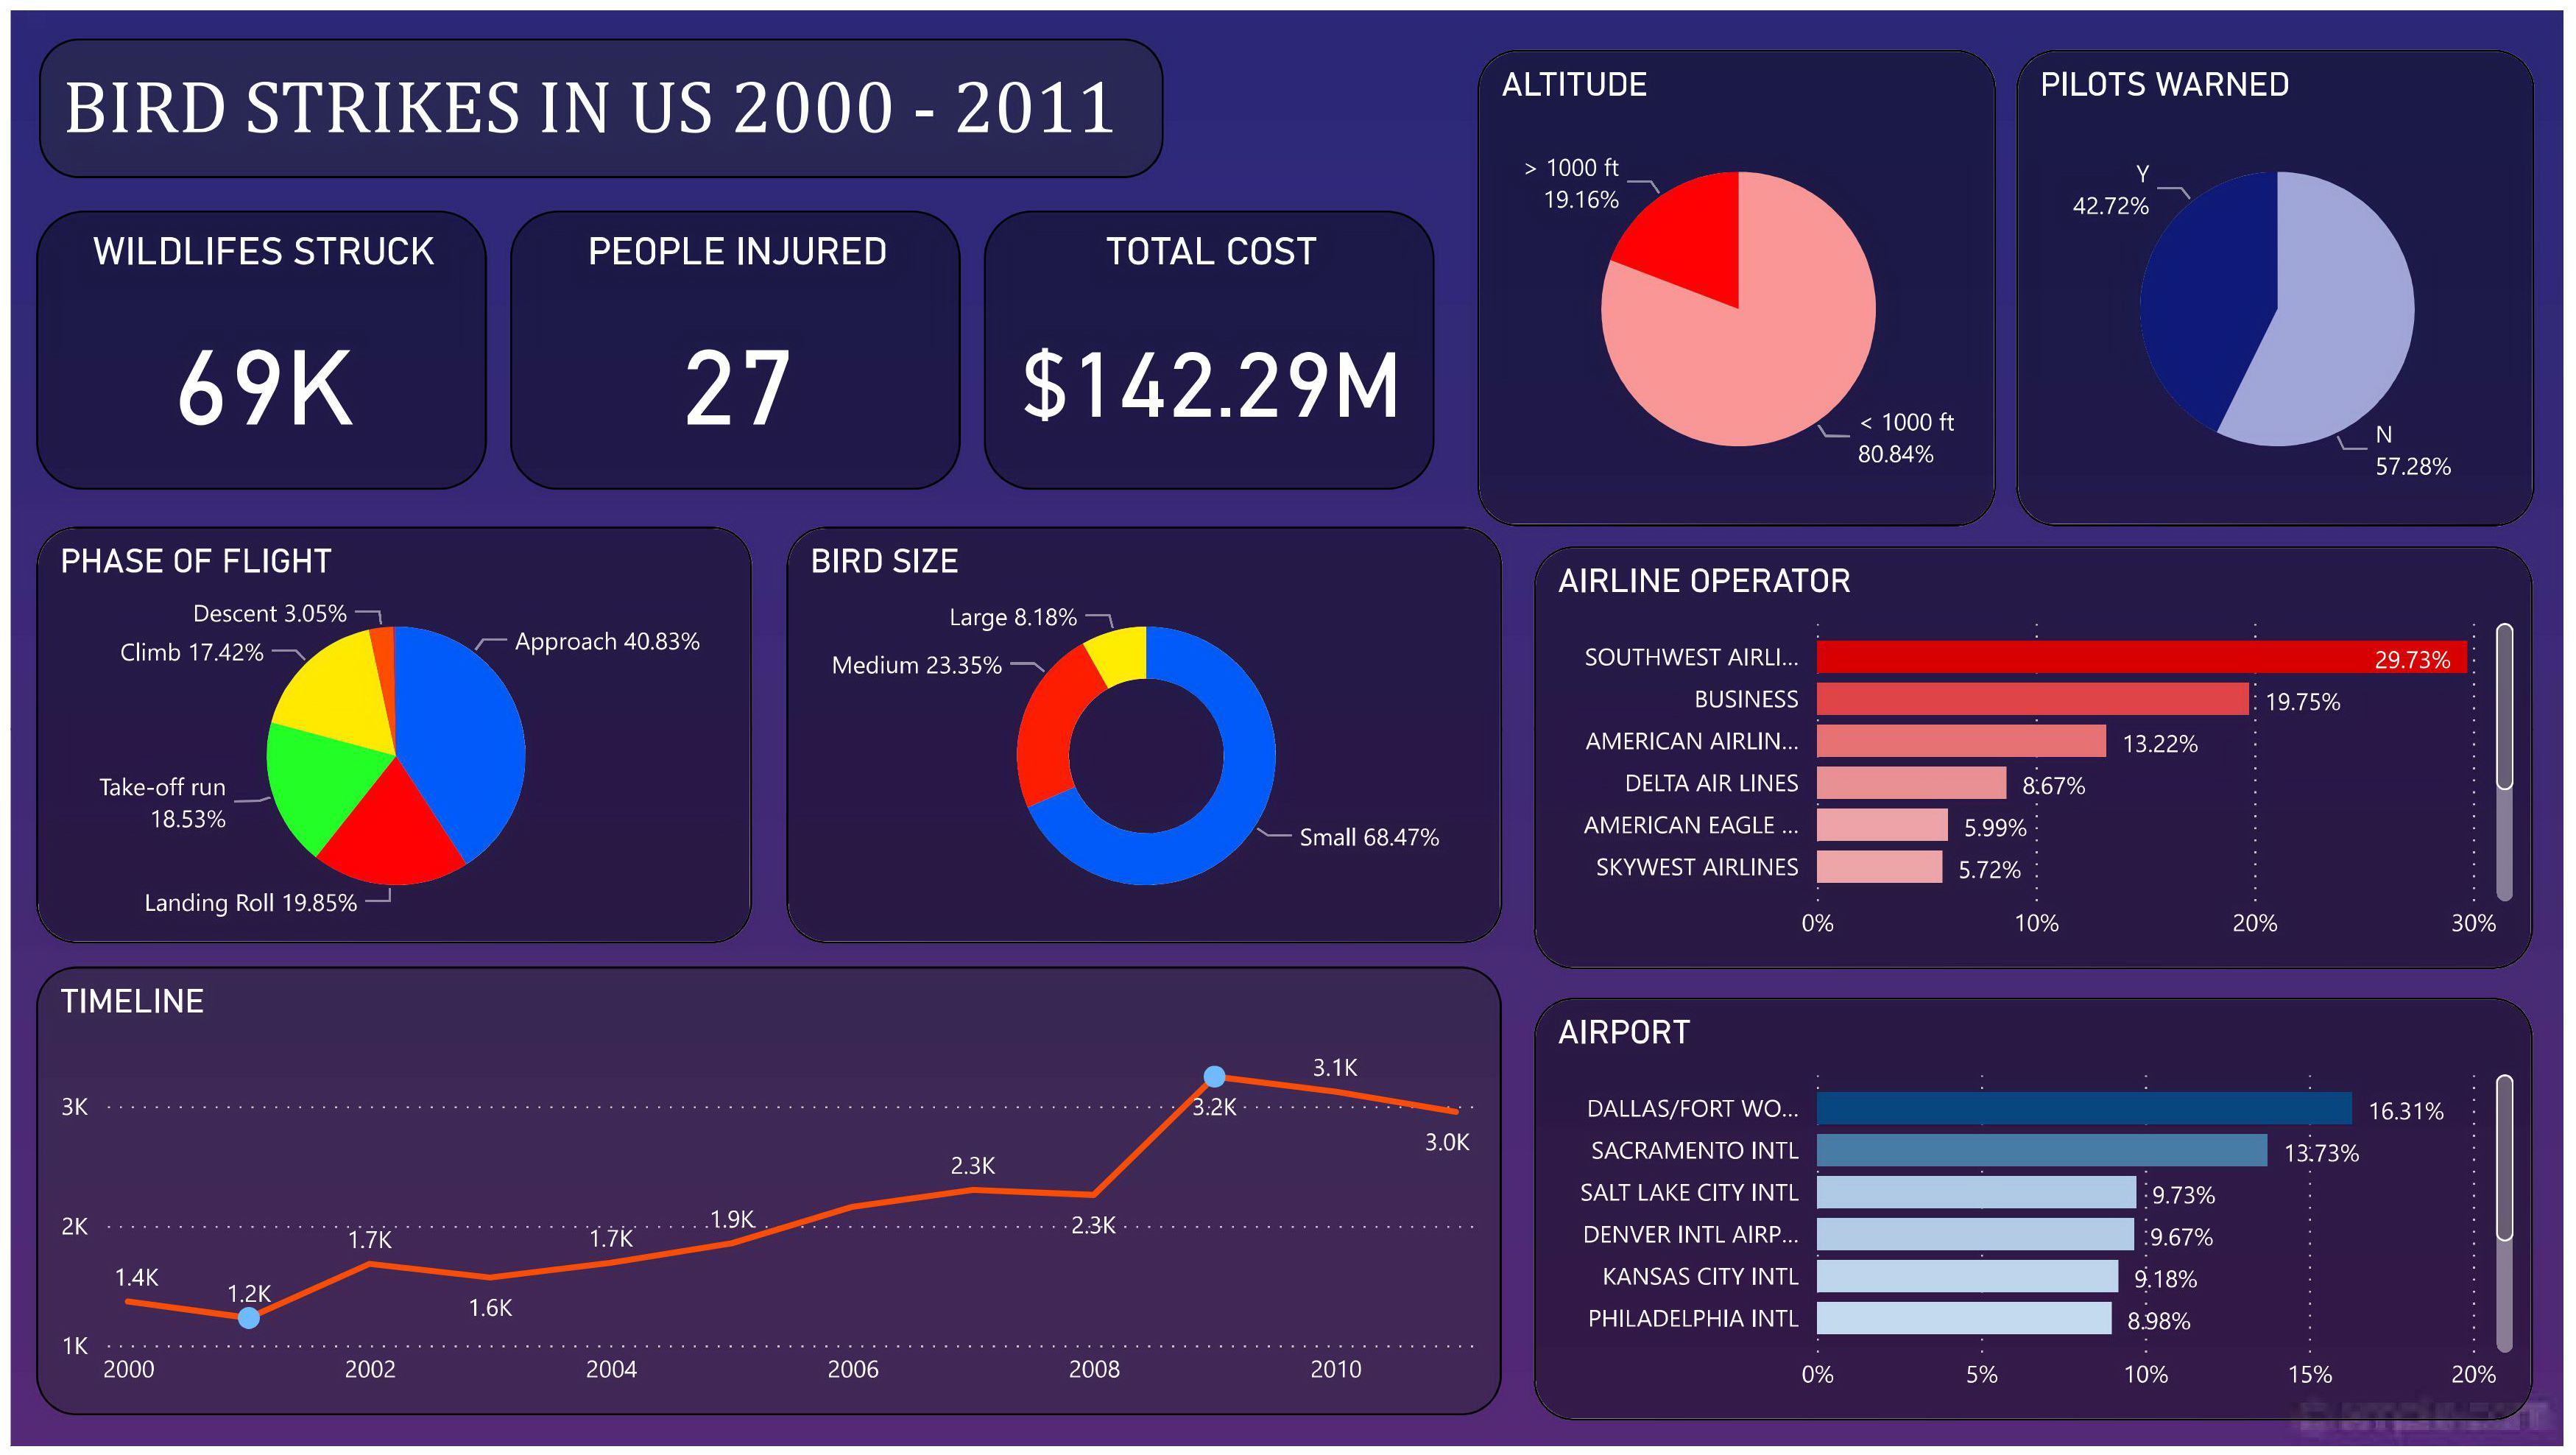

The dashboard page shown, as its layout file describes it:
{"tool":"powerbi","page":{"name":"Page 1","canvas":[1280,720],"ordinal":0},"visuals":[{"type":"lineChart","title":"TIMELINE","fields":{"Category":["Bird Strikes.FlightDate.Variation.Date Hierarchy.Year"],"Y":["CountNonNull(Bird Strikes.Pilot warned of birds or wildlife?)"]},"box":[12.9,480,735.4,224.6],"z":0},{"type":"barChart","title":"AIRPORT","fields":{"Category":["Bird Strikes.Airport: Name"],"Y":["CountNonNull(Bird Strikes.Aircraft: Airline/Operator)"]},"box":[764.4,494.5,501,211.7],"z":1000},{"type":"barChart","title":"AIRLINE OPERATOR","fields":{"Category":["Bird Strikes.Aircraft: Airline/Operator"],"Y":["CountNonNull(Bird Strikes.Aircraft: Make/Model)"]},"box":[764.4,268.3,501,211.7],"z":2000},{"type":"pieChart","title":"PHASE OF FLIGHT","fields":{"Category":["Bird Strikes.When: Phase of flight"],"Y":["CountNonNull(Bird Strikes.Airport: Name)"]},"box":[12.7,258.9,359.3,209.4],"z":3000},{"type":"pieChart","title":"ALTITUDE","fields":{"Y":["CountNonNull(Bird Strikes.Airport: Name)"],"Category":["Bird Strikes.Altitude bin"]},"box":[735.4,19.4,260.2,239.2],"z":4000},{"type":"pieChart","title":"PILOTS WARNED","fields":{"Category":["Bird Strikes.Pilot warned of birds or wildlife?"],"Y":["CountNonNull(Bird Strikes.Airport: Name)"]},"box":[1005.3,19.4,260.2,239.2],"z":5000},{"type":"textbox","box":[13.6,13.6,564.3,69.6],"z":6000},{"type":"donutChart","title":"BIRD SIZE","fields":{"Y":["CountNonNull(Bird Strikes.Airport: Name)"],"Category":["Bird Strikes.Wildlife: Size"]},"box":[389,258.9,359.3,209.4],"z":7000},{"type":"card","title":"WILDLIFES STRUCK","fields":{"Values":["Sum(Bird Strikes.Wildlife: Number Struck Actual)"]},"box":[12.7,93.4,226.3,140],"z":8000},{"type":"card","title":"PEOPLE INJURED","fields":{"Values":["Sum(Bird Strikes.Number of people injured)"]},"box":[250.4,93.4,226.3,140],"z":9000},{"type":"card","title":"TOTAL COST","fields":{"Values":["Sum(Bird Strikes.Cost: Total $)"]},"box":[488,93.4,226.3,140],"z":10000}]}

Visuals, with their boxes in screenshot pixels (x1, y1, x2, y2), scaled from the page's 1280x720 canvas onto the 2576x1455 screenshot:
"TIMELINE" lineChart: (x1=26, y1=970, x2=1506, y2=1424)
"AIRPORT" barChart: (x1=1539, y1=999, x2=2547, y2=1427)
"AIRLINE OPERATOR" barChart: (x1=1539, y1=542, x2=2547, y2=970)
"PHASE OF FLIGHT" pieChart: (x1=26, y1=524, x2=749, y2=946)
"ALTITUDE" pieChart: (x1=1480, y1=39, x2=2004, y2=523)
"PILOTS WARNED" pieChart: (x1=2023, y1=39, x2=2547, y2=523)
textbox: (x1=27, y1=27, x2=1163, y2=168)
"BIRD SIZE" donutChart: (x1=783, y1=524, x2=1506, y2=946)
"WILDLIFES STRUCK" card: (x1=26, y1=189, x2=481, y2=472)
"PEOPLE INJURED" card: (x1=504, y1=189, x2=959, y2=472)
"TOTAL COST" card: (x1=982, y1=189, x2=1438, y2=472)
